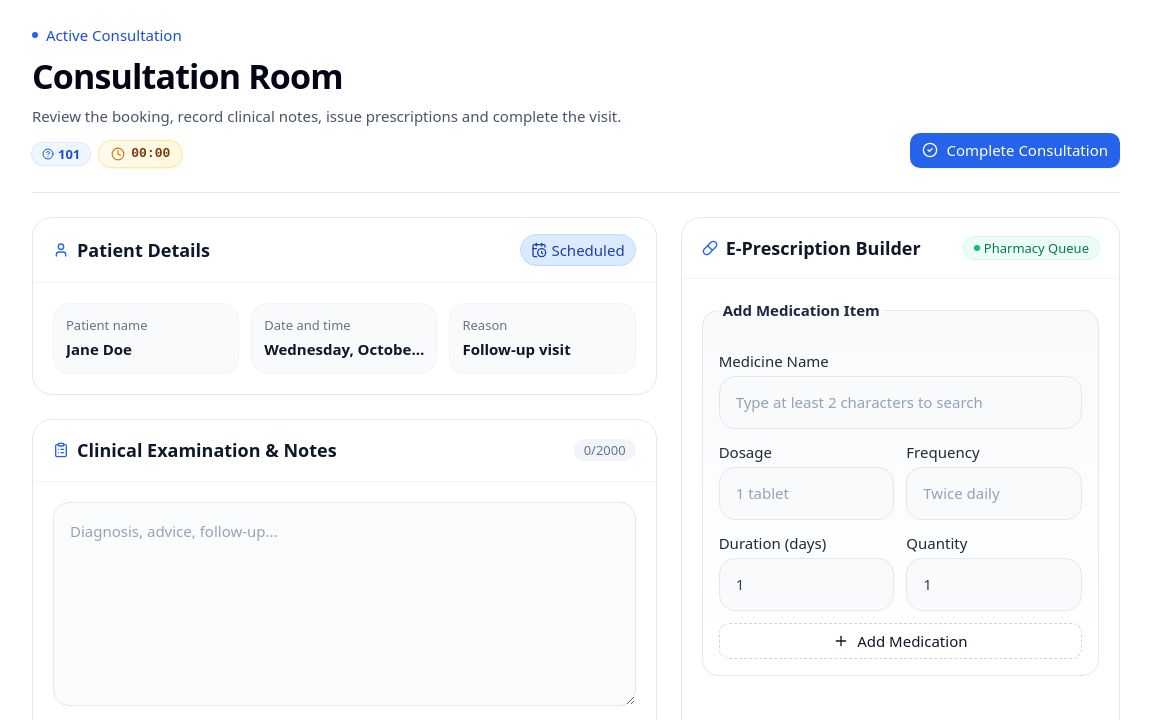
ConsultationPage (DOC-04) — full consultation workflow › surfaces the backend rejection when notes cannot be saved
Check: the heading "Consultation Room" is shown, box [32,52,343,98]
Check: the heading "Patient Details" is shown, box [77,236,210,264]
Type "Follow-up required." into the text box labelled "Clinical Examination & Notes".
click(344, 604); type("Follow-up required.")  # box [53,502,636,706]
(page scrolled)
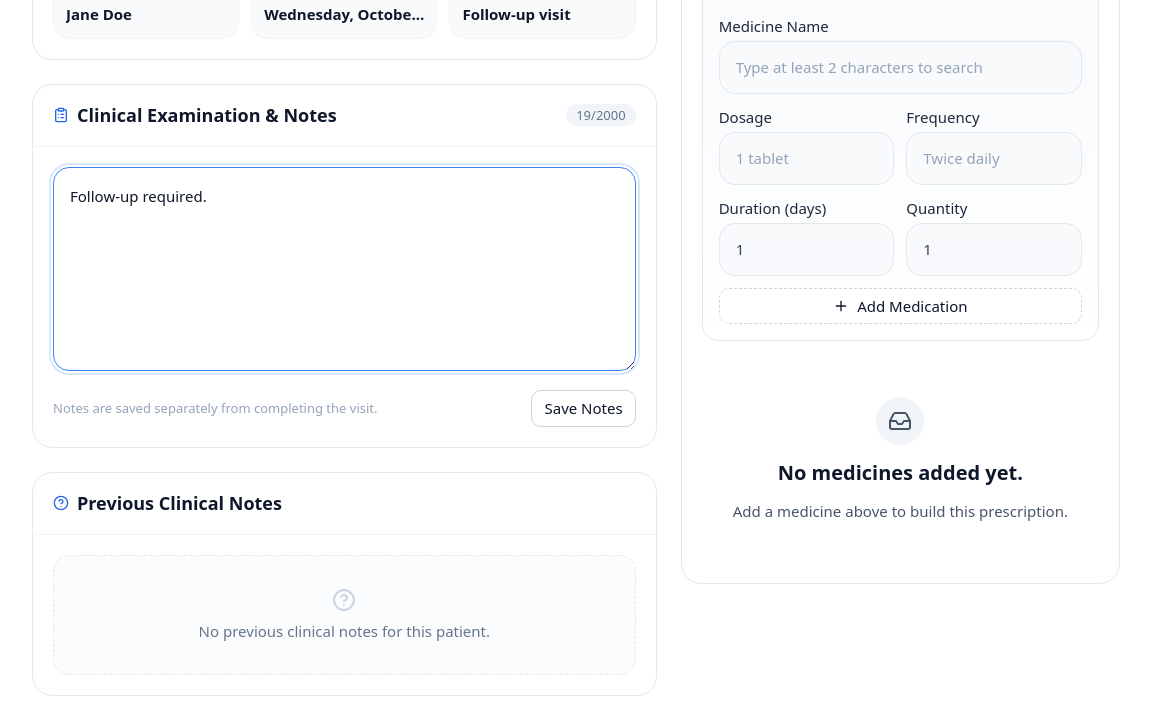
Click the button "Save Notes".
click(584, 409)  # box [532,390,636,427]
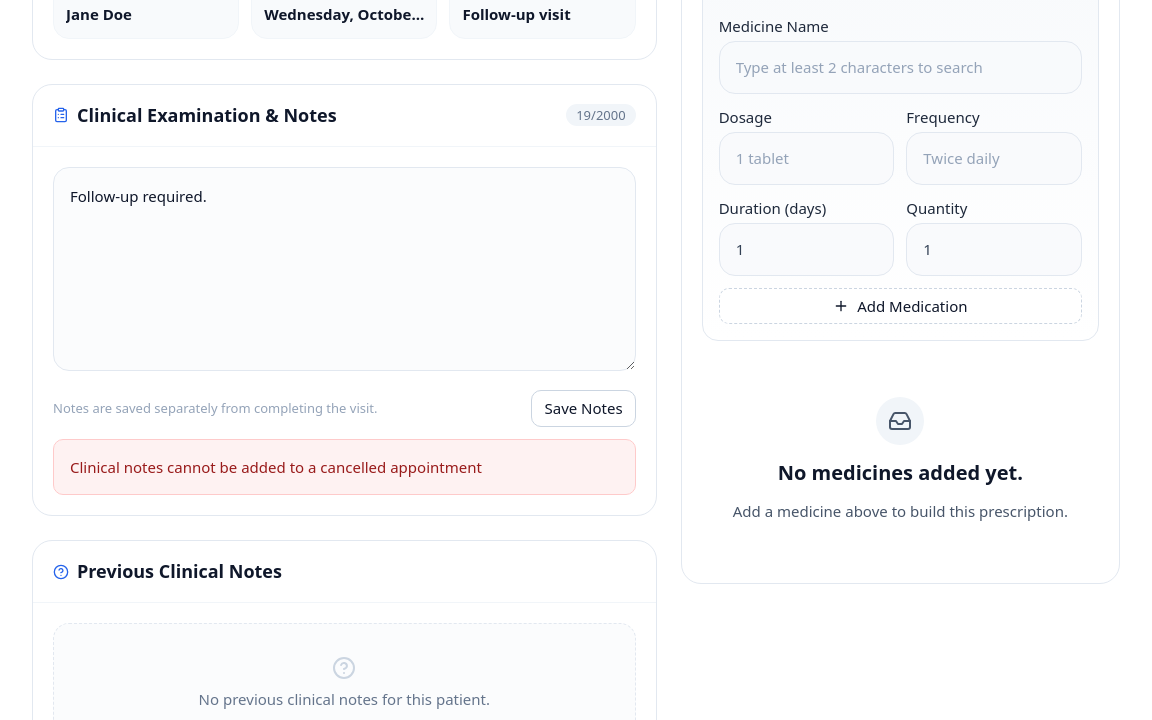
Check: the message "Clinical notes cannot be added to a cancelled appointment" is shown, box [53,439,636,495]
